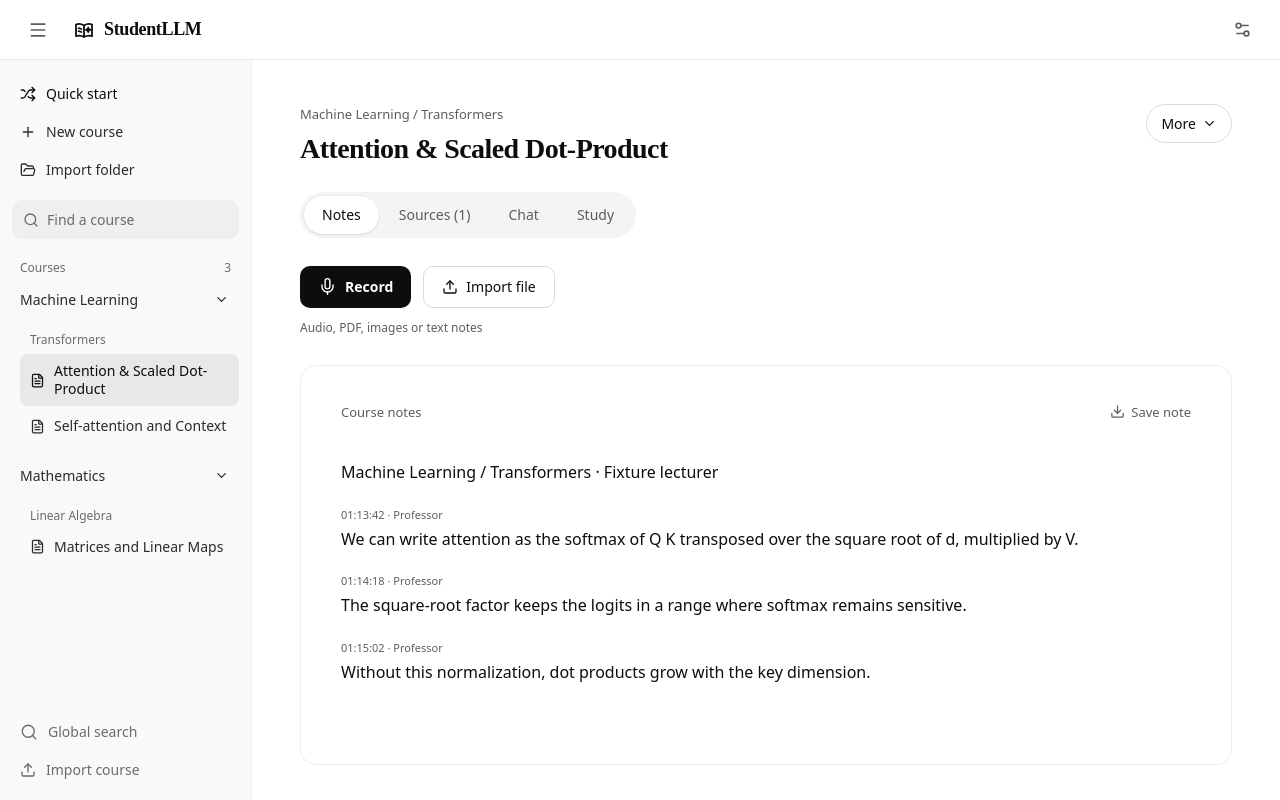
Test: the app with its workspace in IndexedDB › Settings storage line › warns at 80% and offers to ask the browser to keep the data
Click the button named "Settings".
click(1242, 30)  # box [1222,10,1262,50]
(page scrolled)
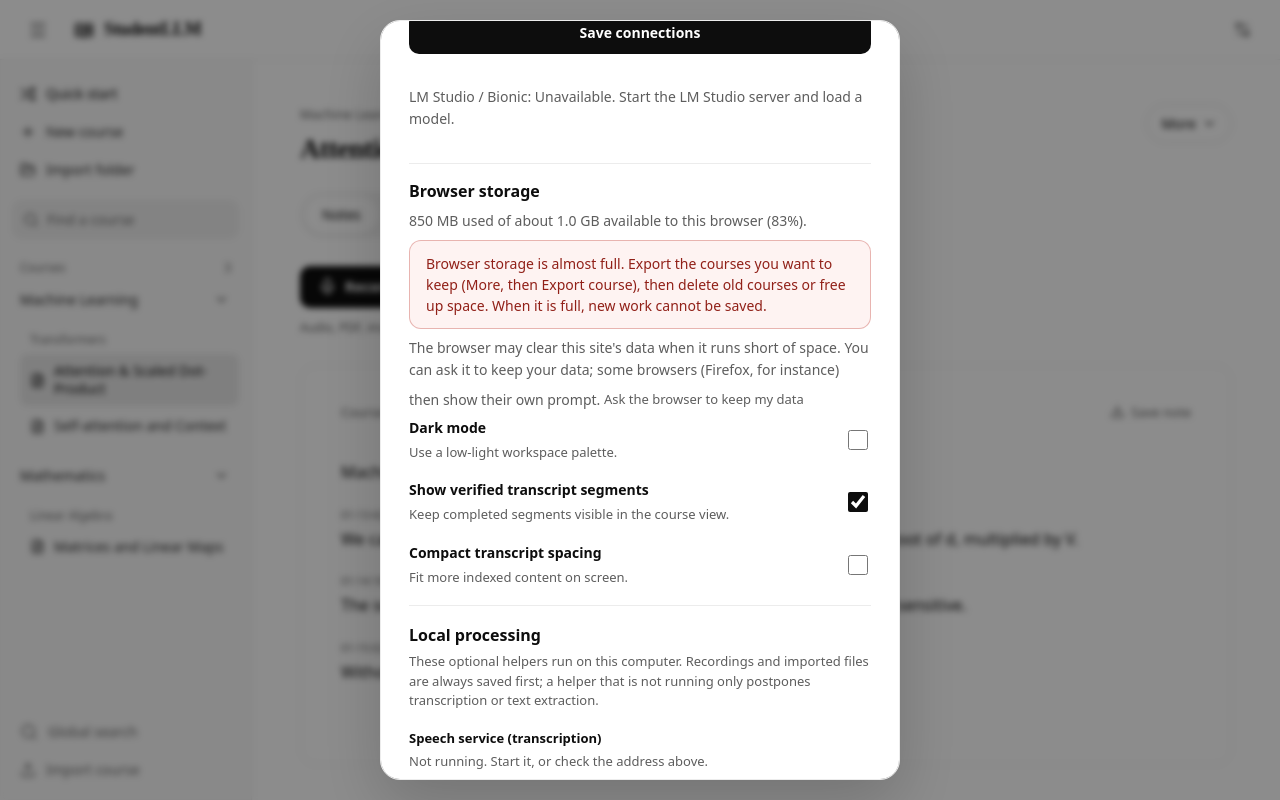
Now the 2nd message shows "almost full", box [426,254,846,315]
Click the button "Ask the browser to keep my data".
click(704, 400)  # box [604,382,804,418]
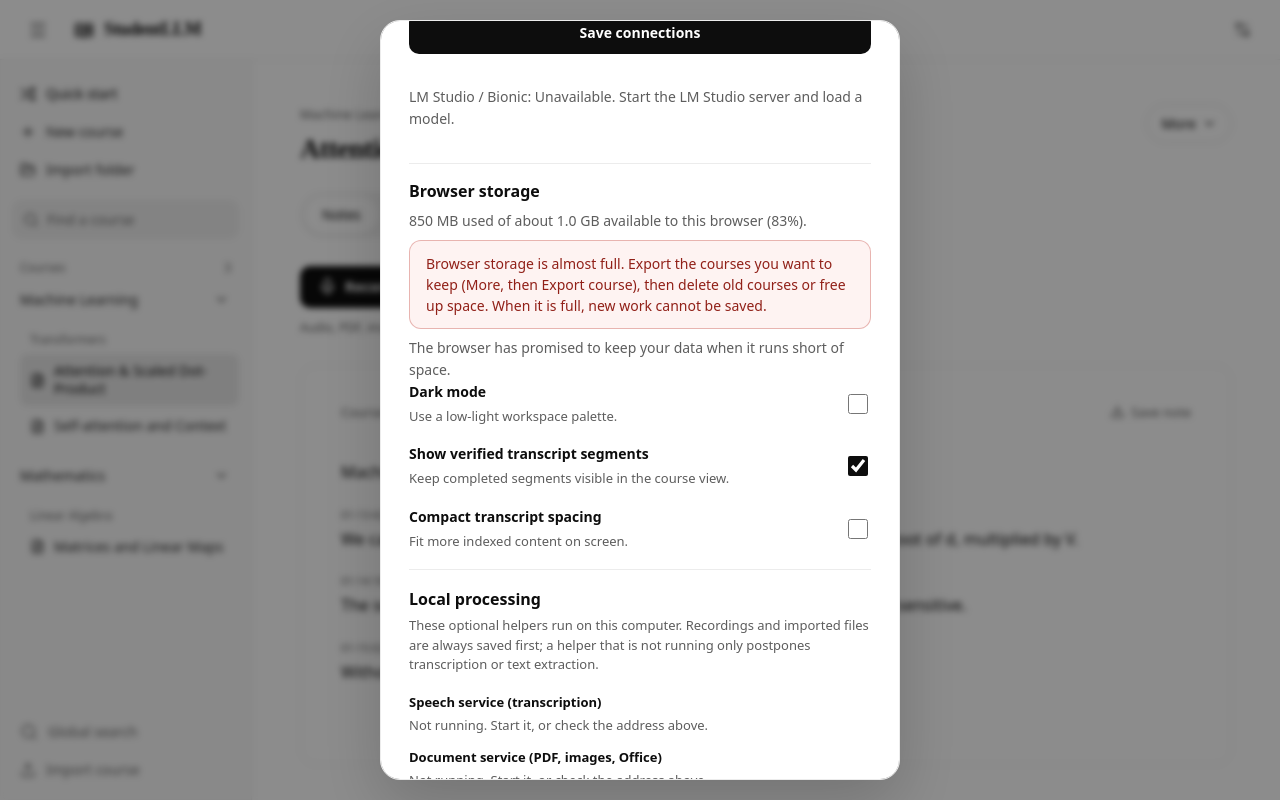
Now the text "promised to keep your data" is shown, box [409,338,844,379]
